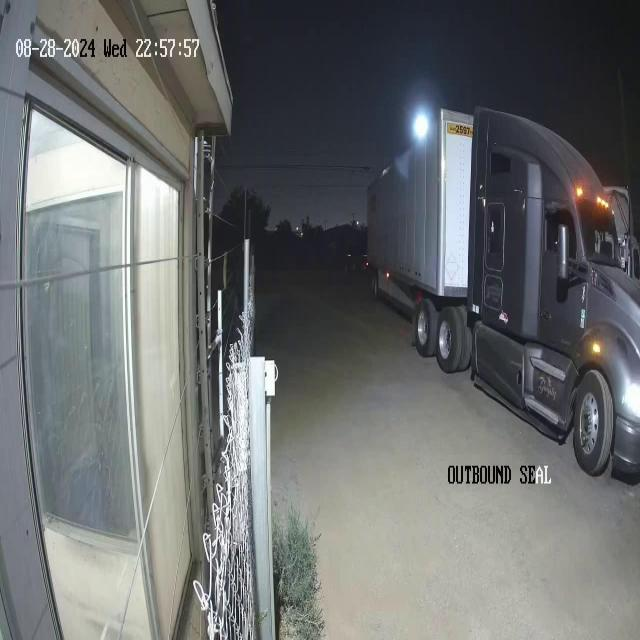TRUCK_IN: (365, 104, 639, 478)
